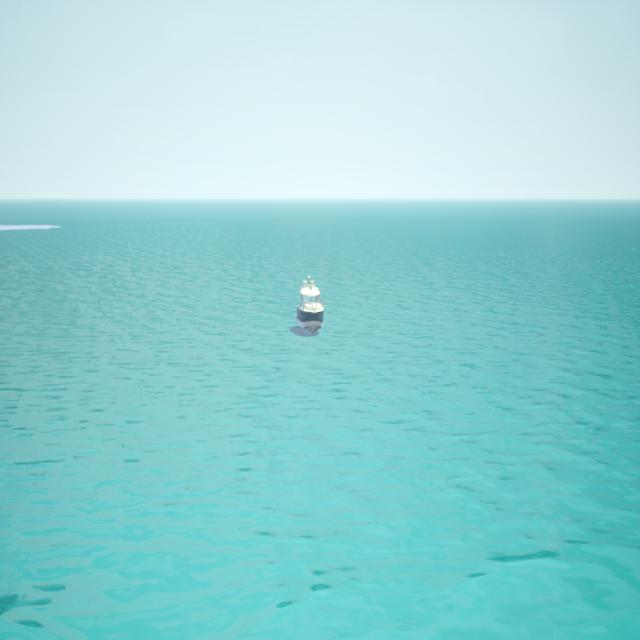ship: (295, 274, 323, 332)
